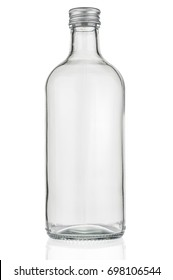glass_bottleww: (26, 3, 144, 262)
